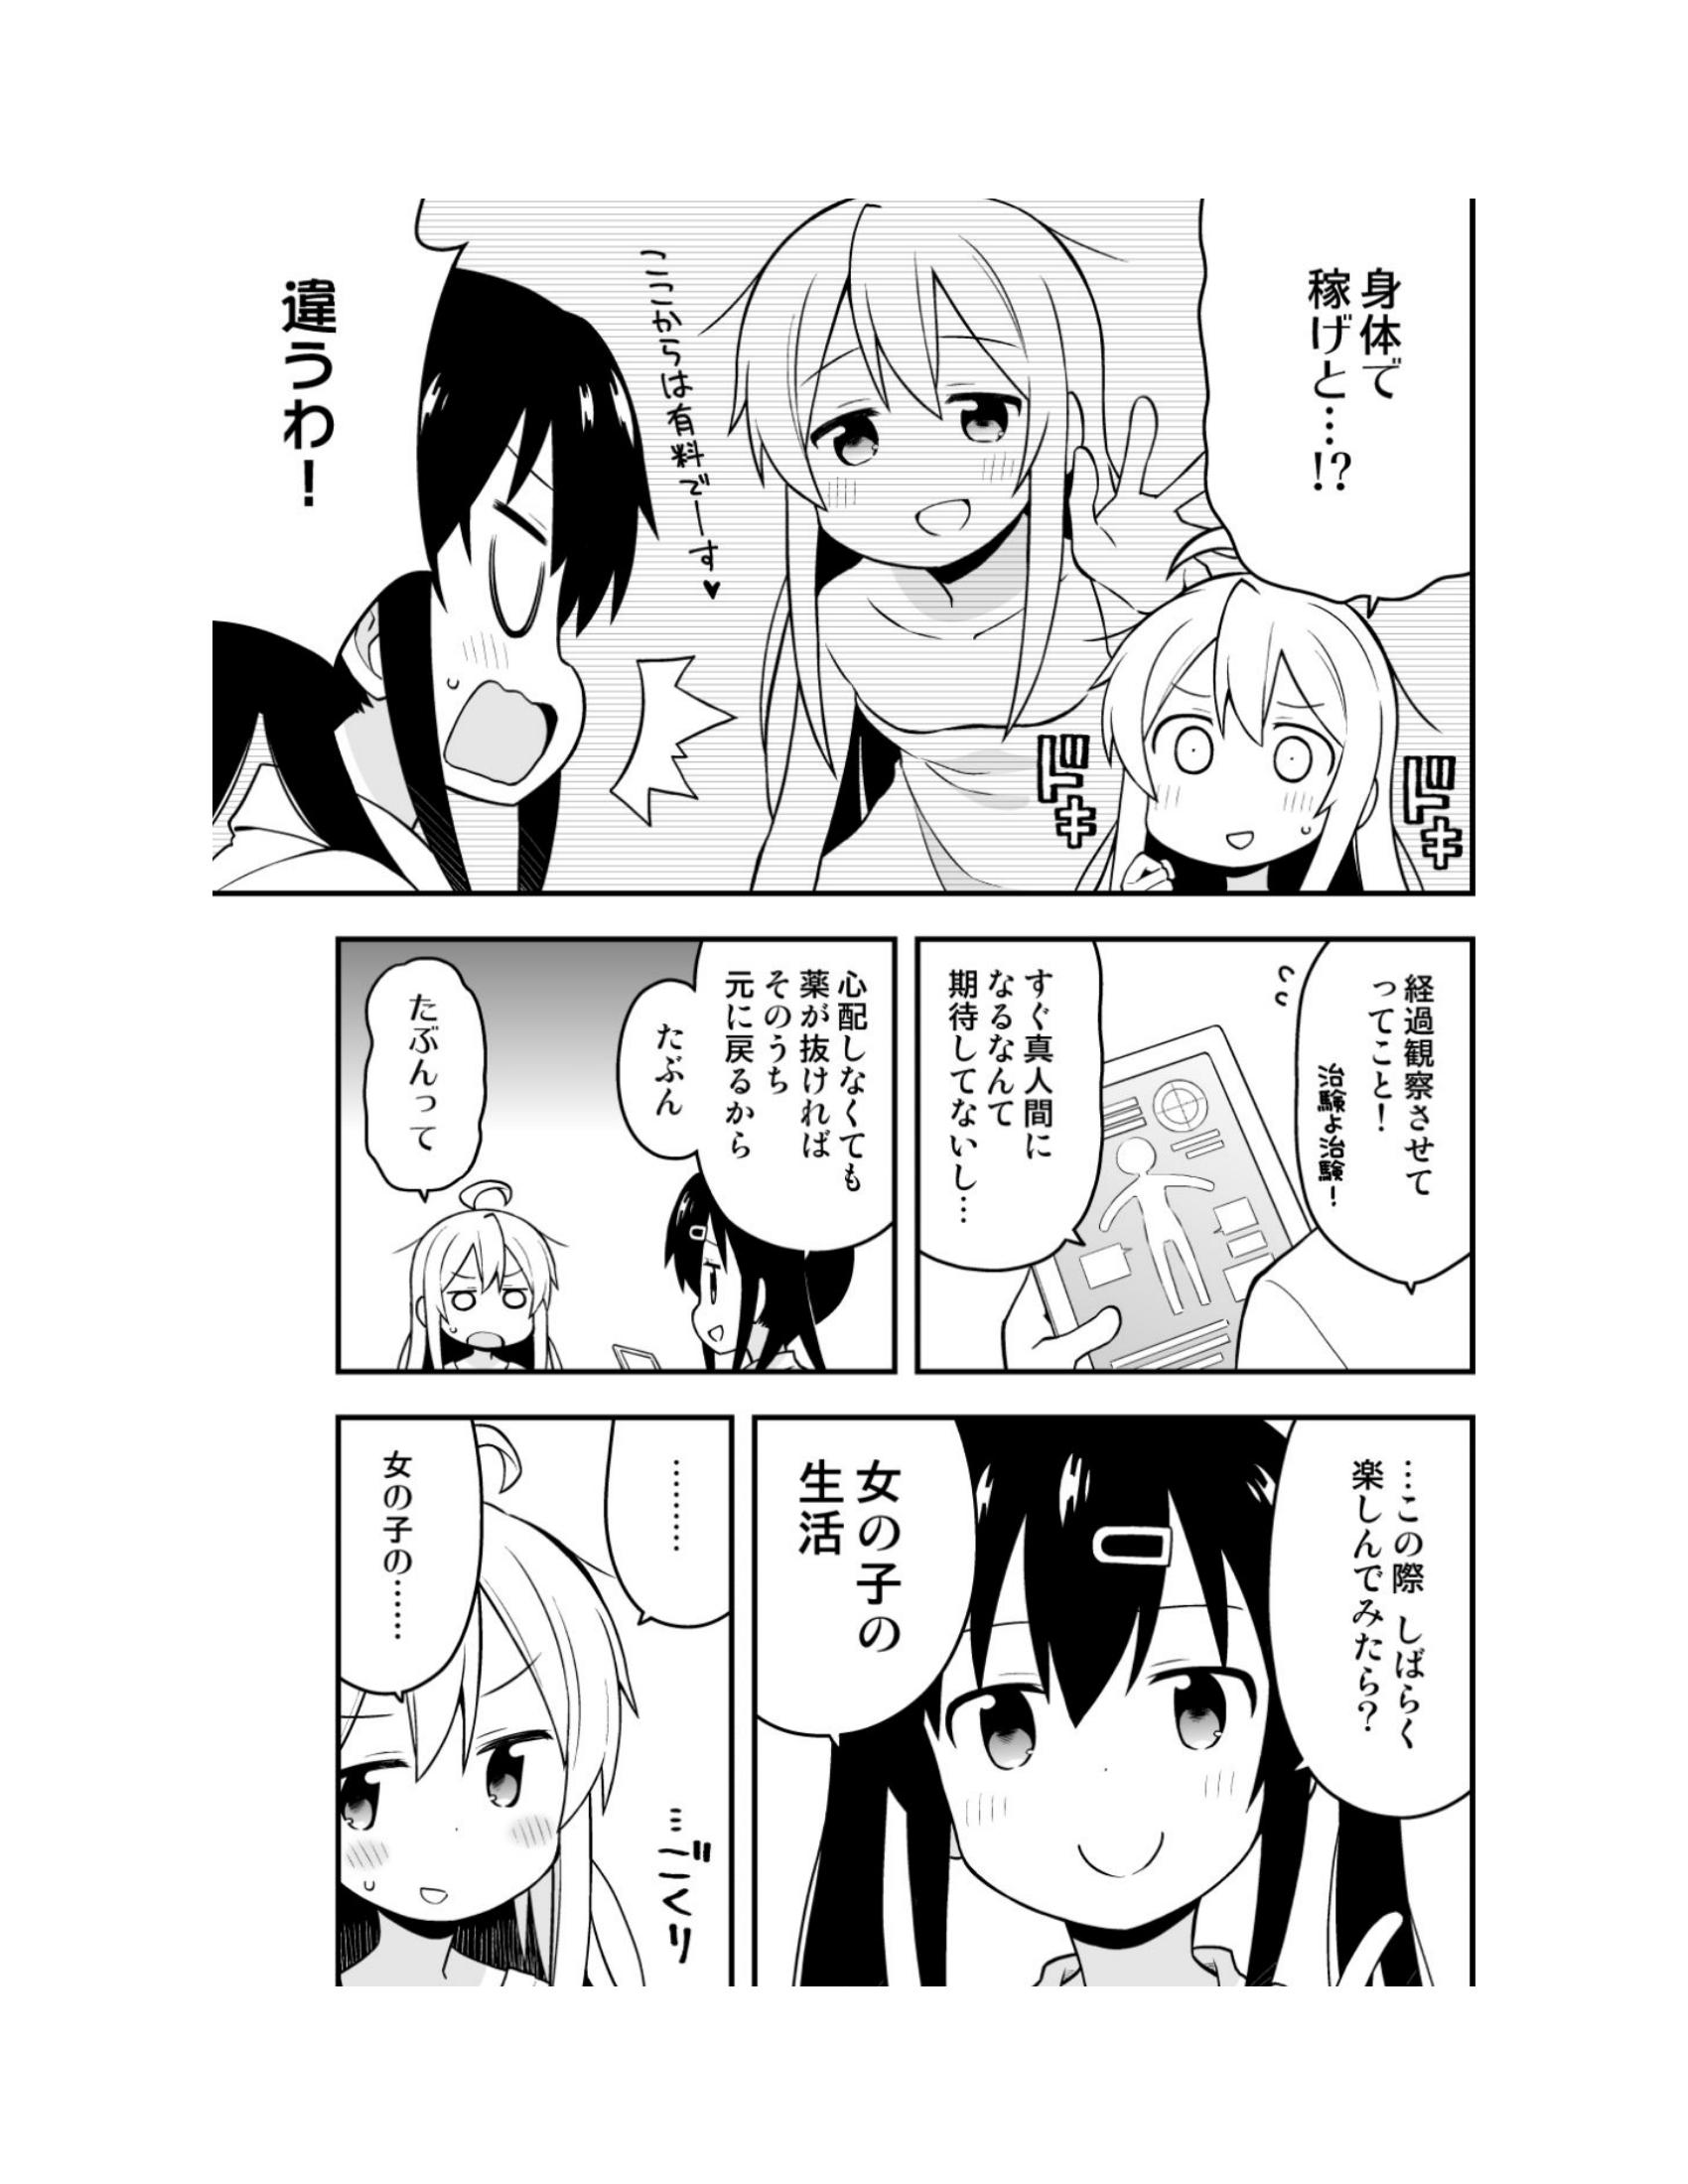a: (231, 229, 486, 626), (1264, 213, 1489, 610), (1280, 1409, 1500, 1810), (605, 945, 904, 1221), (920, 918, 1126, 1255), (766, 1409, 965, 1730), (1280, 948, 1440, 1236), (342, 955, 500, 1244), (328, 1413, 473, 1696)
